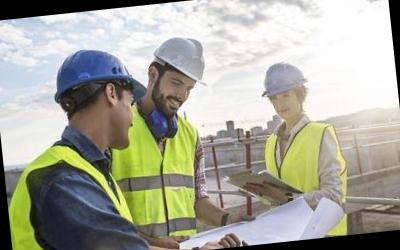Vest: (7, 140, 146, 250), (121, 116, 206, 250), (260, 114, 340, 204)
